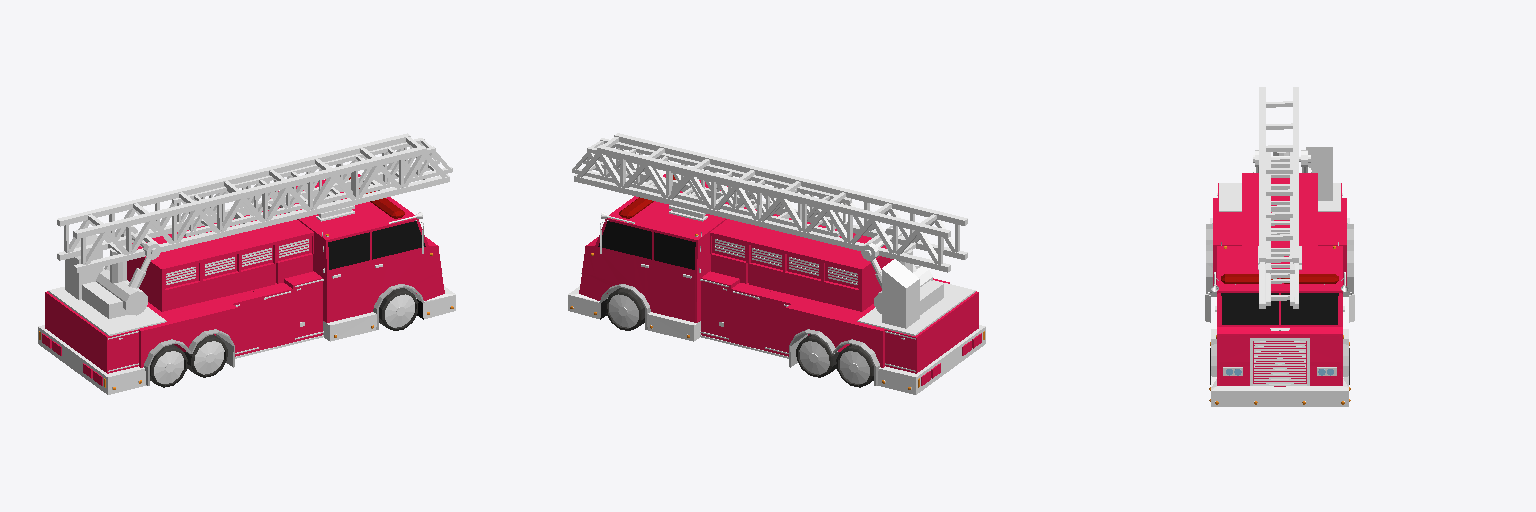
Rendered from car_alt.obj.
3 views of the same model, side by side, from view 1: azimuth 30°, elevation 25°; view 2: azimuth 150°, elevation 25°; view 3: azimuth 270°, elevation 25° (orthographic).
Visible parts, largest first — view 1: Mesh_170, Mesh_152, Mesh_174, Mesh_171, Mesh_34, Mesh_35, Mesh_8, Mesh_153, Mesh_172, Mesh_175, Mesh_156, Mesh_144 (+12 smaller); view 2: Mesh_170, Mesh_152, Mesh_174, Mesh_171, Mesh_8, Mesh_34, Mesh_9, Mesh_153, Mesh_142, Mesh_172, Mesh_175, Mesh_156 (+11 smaller); view 3: Mesh_152, Mesh_153, Mesh_151, Mesh_170, Mesh_171, Mesh_34, Mesh_144, Mesh_8, Mesh_142, Mesh_154, Mesh_262.
Boxes of the visible parts, x1=… form: Mesh_170: x1=127, y1=207, x2=313, y2=311; Mesh_152: x1=270, y1=174, x2=444, y2=322; Mesh_174: x1=45, y1=291, x2=138, y2=373; Mesh_171: x1=138, y1=297, x2=237, y2=367; Mesh_34: x1=73, y1=146, x2=426, y2=238; Mesh_35: x1=73, y1=174, x2=449, y2=272; Mesh_8: x1=57, y1=133, x2=410, y2=226; Mesh_153: x1=328, y1=221, x2=425, y2=319; Mesh_172: x1=252, y1=283, x2=292, y2=349; Mesh_175: x1=284, y1=271, x2=324, y2=341; Mesh_156: x1=38, y1=325, x2=146, y2=394; Mesh_144: x1=48, y1=287, x2=166, y2=335; Mesh_170: x1=710, y1=207, x2=893, y2=311; Mesh_152: x1=579, y1=174, x2=728, y2=322; Mesh_174: x1=885, y1=291, x2=978, y2=373; Mesh_171: x1=786, y1=278, x2=949, y2=367; Mesh_8: x1=597, y1=145, x2=950, y2=238; Mesh_34: x1=614, y1=133, x2=967, y2=225; Mesh_9: x1=574, y1=174, x2=950, y2=272; Mesh_153: x1=598, y1=221, x2=695, y2=319; Mesh_142: x1=882, y1=259, x2=919, y2=328; Mesh_172: x1=731, y1=283, x2=771, y2=349; Mesh_175: x1=699, y1=271, x2=739, y2=341; Mesh_156: x1=877, y1=325, x2=985, y2=394; Mesh_152: x1=1217, y1=246, x2=1342, y2=386; Mesh_153: x1=1221, y1=293, x2=1338, y2=324; Mesh_151: x1=1211, y1=328, x2=1348, y2=406; Mesh_170: x1=1242, y1=173, x2=1317, y2=245; Mesh_171: x1=1213, y1=198, x2=1346, y2=285; Mesh_34: x1=1259, y1=87, x2=1265, y2=263; Mesh_144: x1=1219, y1=183, x2=1340, y2=211; Mesh_8: x1=1293, y1=87, x2=1298, y2=263; Mesh_142: x1=1306, y1=147, x2=1332, y2=200; Mesh_154: x1=1221, y1=274, x2=1338, y2=283; Mesh_262: x1=1206, y1=244, x2=1353, y2=296.
Size of the model in its own units: 2.29 by 0.8789 by 0.7889.